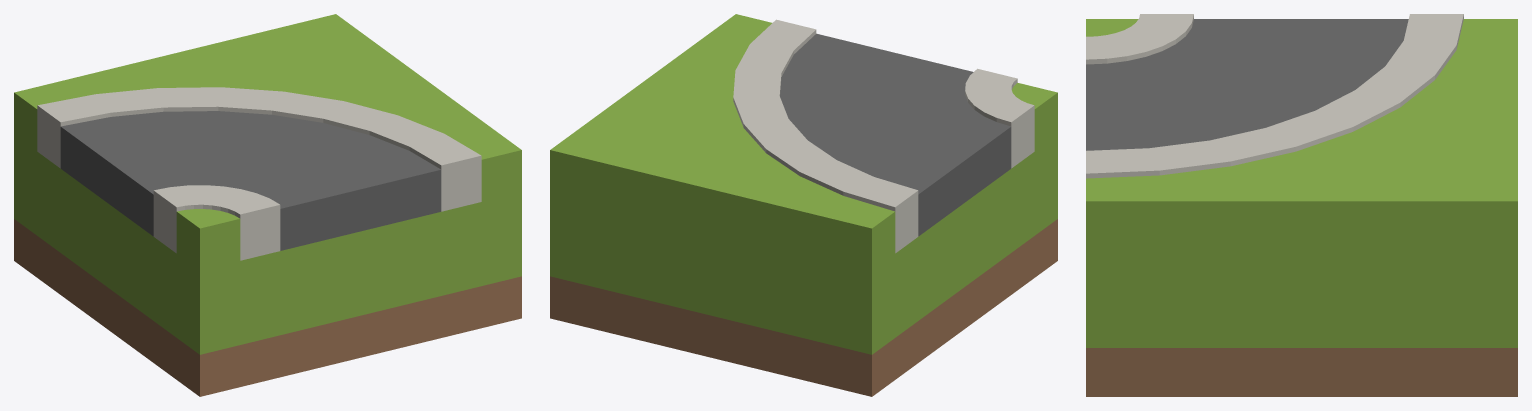
File: road-corner-high.obj
The picture shows the model from 3 angles, left to right: view 1: azimuth 30°, elevation 25°; view 2: azimuth 150°, elevation 25°; view 3: azimuth 270°, elevation 25°; orthographic projection. The views are drawn at different scales.
Visible parts, largest first — view 1: road-corner-high_Cube.255; view 2: road-corner-high_Cube.255; view 3: road-corner-high_Cube.255.
Boxes of the visible parts, left/top/right/bottom form: road-corner-high_Cube.255: left=14, top=14, right=521, bottom=396; road-corner-high_Cube.255: left=550, top=14, right=1057, bottom=396; road-corner-high_Cube.255: left=1086, top=14, right=1517, bottom=396.
Bounding box in the file's own units: 8 × 4.1 × 8.
1 material, 1 textured.
